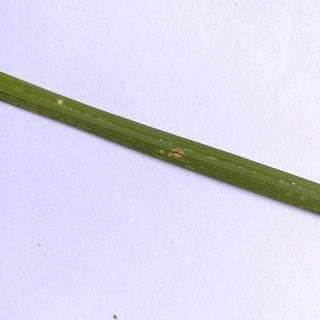Blast: (145, 133, 220, 183), (55, 92, 69, 110)
